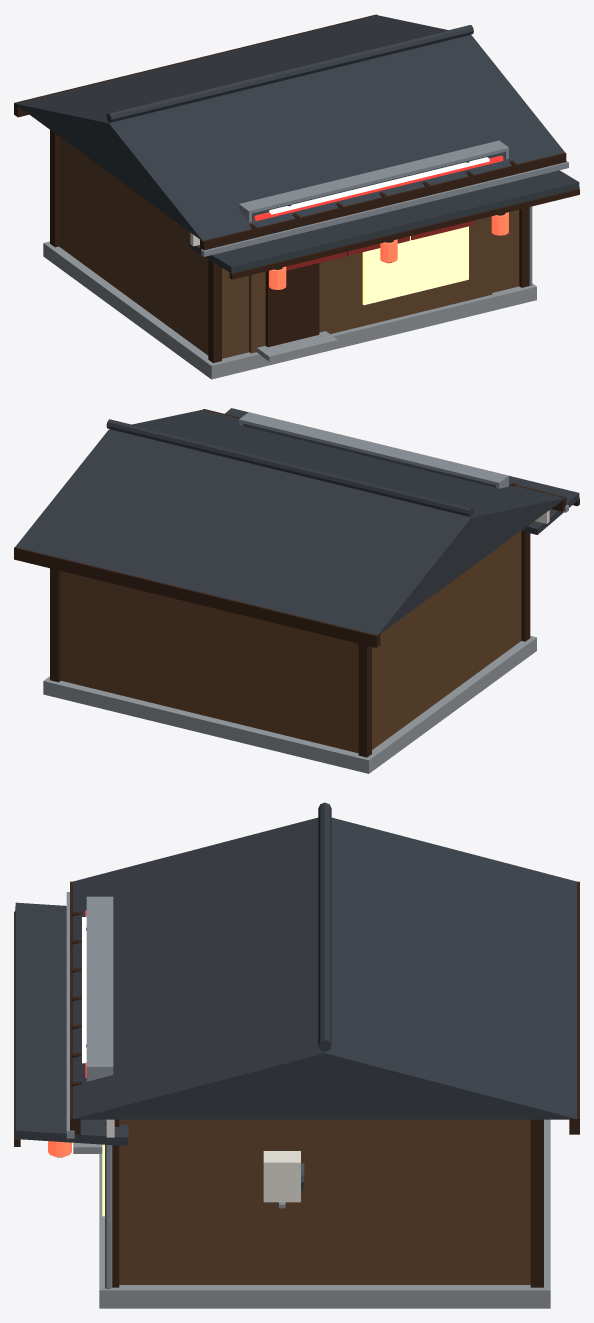
File: shop_yatai1_1f.glb
3 views of the same model, one above another, from view 1: azimuth 30°, elevation 25°; view 2: azimuth 150°, elevation 25°; view 3: azimuth 270°, elevation 25° (orthographic). The views are drawn at different scales.
Parts seen in each view (by area): view 1: roof.024, body.047, panel.014, eave.024, base.047, panel_glass.014, ridge.024, eave_front.024, door.043, sign_rim_top.037, gutter.022, eave_edge.024 (+7 smaller); view 2: roof.024, body.047, base.047, eave_back.024, ridge.024, sign_rim_top.037, post.192, post.194, eave.024, post.191, sign_case.037; view 3: roof.024, body.047, eave.024, base.047, sign_rim_top.037, ridge.024, post.194, ac_body.058, post.193, downpipe.022, gutter.022, eave_back.024 (+2 smaller).
Part boxes in pixels (<box>): roof.024: <box>15,15,564,240</box>; body.047: <box>59,136,519,358</box>; panel.014: <box>249,216,492,353</box>; eave.024: <box>189,170,579,273</box>; base.047: <box>43,241,536,379</box>; panel_glass.014: <box>362,226,468,305</box>; ridge.024: <box>106,25,473,122</box>; eave_front.024: <box>200,152,566,250</box>; door.043: <box>265,263,319,347</box>; sign_rim_top.037: <box>239,140,508,213</box>; gutter.022: <box>201,161,568,256</box>; eave_edge.024: <box>229,189,579,279</box>; roof.024: <box>15,409,565,635</box>; body.047: <box>61,531,521,753</box>; base.047: <box>43,636,536,773</box>; eave_back.024: <box>14,547,380,647</box>; ridge.024: <box>106,419,473,516</box>; sign_rim_top.037: <box>239,412,508,485</box>; post.192: <box>358,644,371,757</box>; post.194: <box>50,568,60,682</box>; eave.024: <box>225,408,579,534</box>; post.191: <box>521,531,530,641</box>; sign_case.037: <box>242,423,495,487</box>; roof.024: <box>73,817,576,1119</box>; body.047: <box>119,1119,530,1284</box>; eave.024: <box>15,902,128,1145</box>; base.047: <box>99,1119,550,1308</box>; sign_rim_top.037: <box>86,896,113,1071</box>; ridge.024: <box>318,802,331,1051</box>; post.194: <box>530,1119,543,1287</box>; ac_body.058: <box>263,1151,300,1202</box>; post.193: <box>112,1119,119,1287</box>; downpipe.022: <box>105,1119,112,1289</box>; gutter.022: <box>66,892,74,1138</box>; eave_back.024: <box>569,881,579,1134</box>.
Size of the model in its own units: 8.5 by 4.65 by 8.5.
